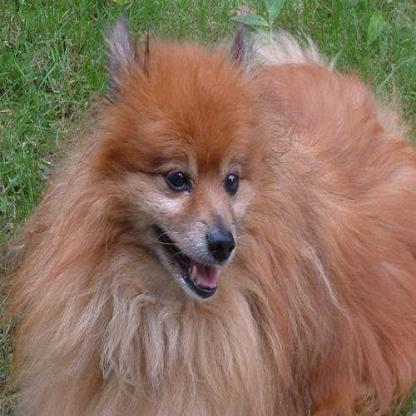Pomeranian: (6, 10, 414, 410)
